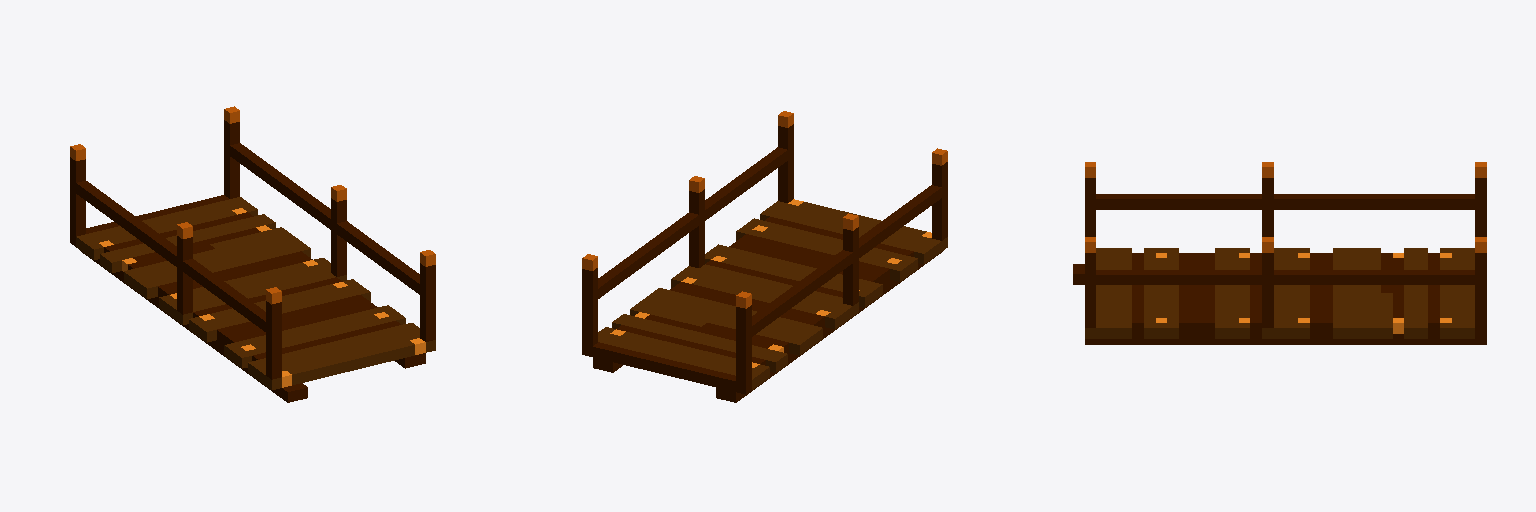
3 renders of one model, left to right at view 1: azimuth 30°, elevation 25°; view 2: azimuth 150°, elevation 25°; view 3: azimuth 270°, elevation 25°, orthographic.
Visible parts, largest first — view 1: mostlvl; view 2: mostlvl; view 3: mostlvl.
Part boxes in pixels (bbox=[...]): mostlvl: bbox=[70, 106, 435, 402]; mostlvl: bbox=[582, 111, 947, 402]; mostlvl: bbox=[1073, 162, 1486, 344].
Size of the model in its own units: 16 by 10 by 35.
Materials: 1 (1 with a texture image).